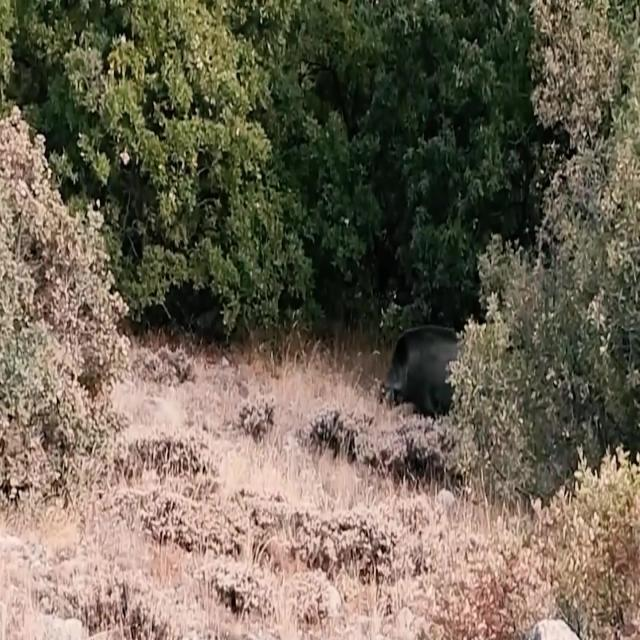pig: (381, 295, 484, 409)
